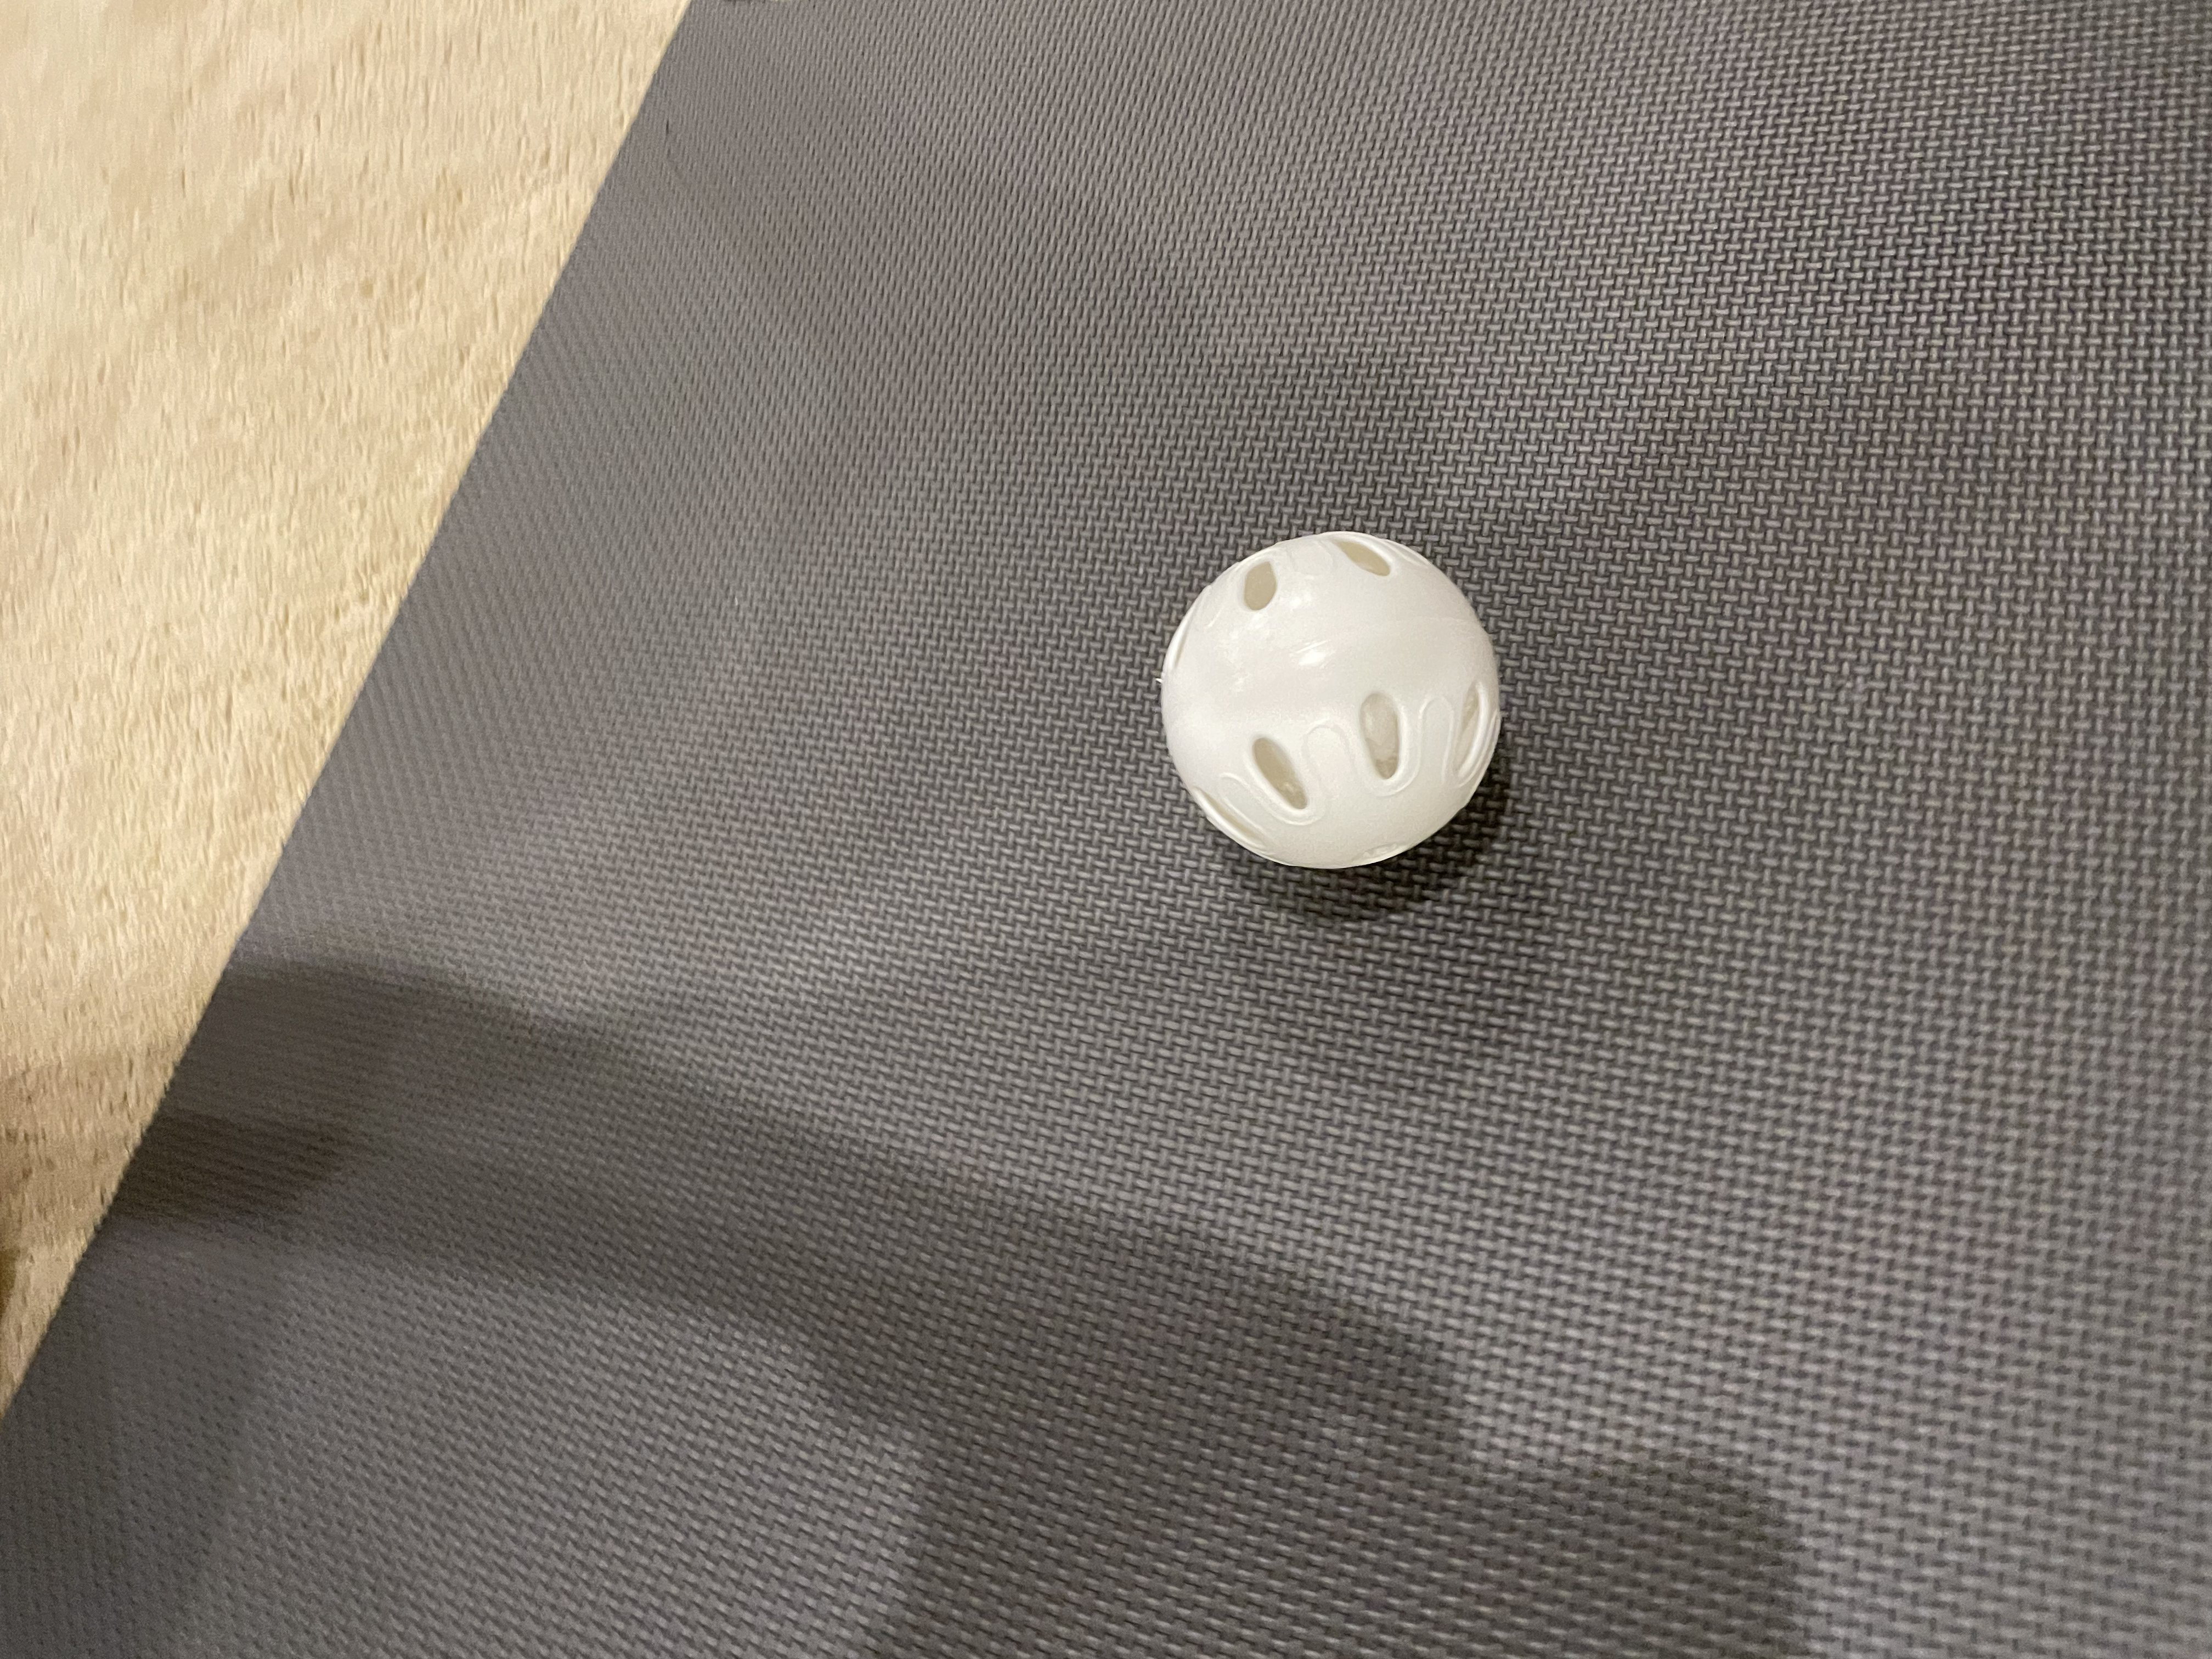ball: (1118, 481, 1545, 908)
